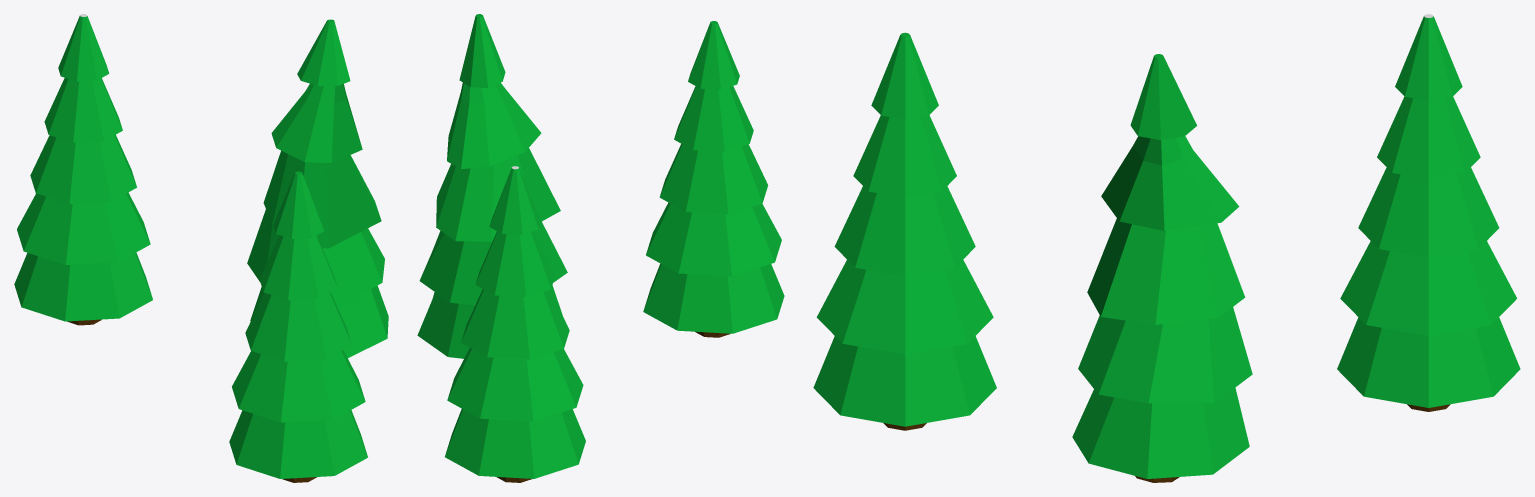
The model's file is PineTree_440.gltf.
3 renders of one model, left to right at view 1: azimuth 30°, elevation 25°; view 2: azimuth 150°, elevation 25°; view 3: azimuth 270°, elevation 25°, orthographic. The views are drawn at different scales.
Parts seen in each view (by area): view 1: node-0; view 2: node-0; view 3: node-0.
Part boxes in pixels (x1,y1,x2,y2): node-0: (14, 14, 388, 482); node-0: (417, 14, 784, 482); node-0: (813, 14, 1520, 482).
Bounding box in the file's own units: 228 × 296 × 425.
